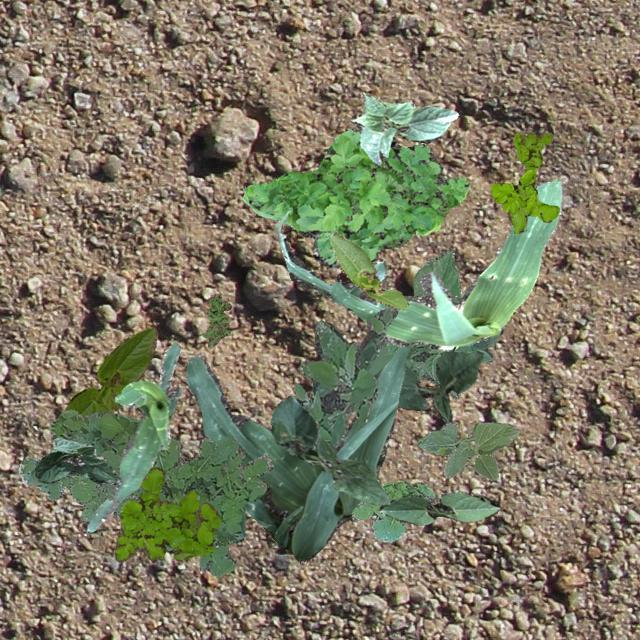crop: (185, 342, 415, 562), (272, 178, 564, 350), (368, 248, 502, 398), (86, 342, 180, 530), (270, 396, 390, 504), (64, 326, 156, 416), (349, 92, 456, 164), (396, 349, 482, 422), (328, 232, 408, 308), (417, 420, 518, 480), (34, 436, 120, 484), (378, 490, 498, 524)
weed: (18, 408, 272, 576), (242, 128, 468, 266), (286, 306, 396, 470), (113, 466, 220, 560), (489, 130, 558, 232), (352, 480, 434, 540), (202, 292, 230, 346)
